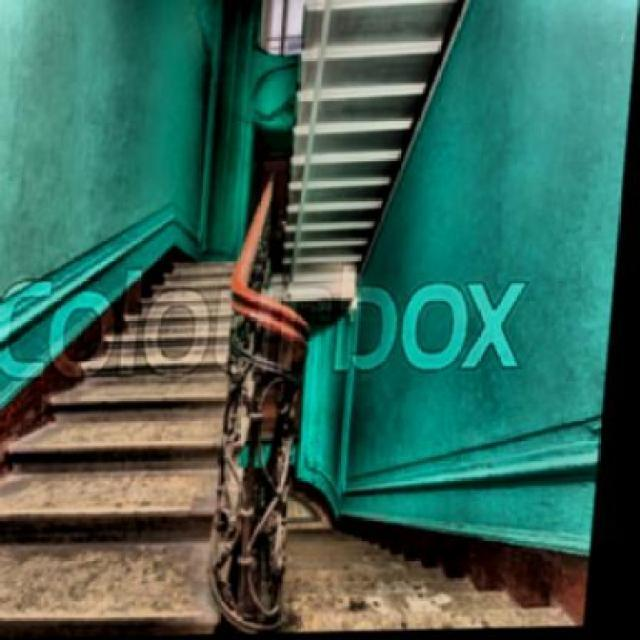stair: (0, 240, 280, 638)
